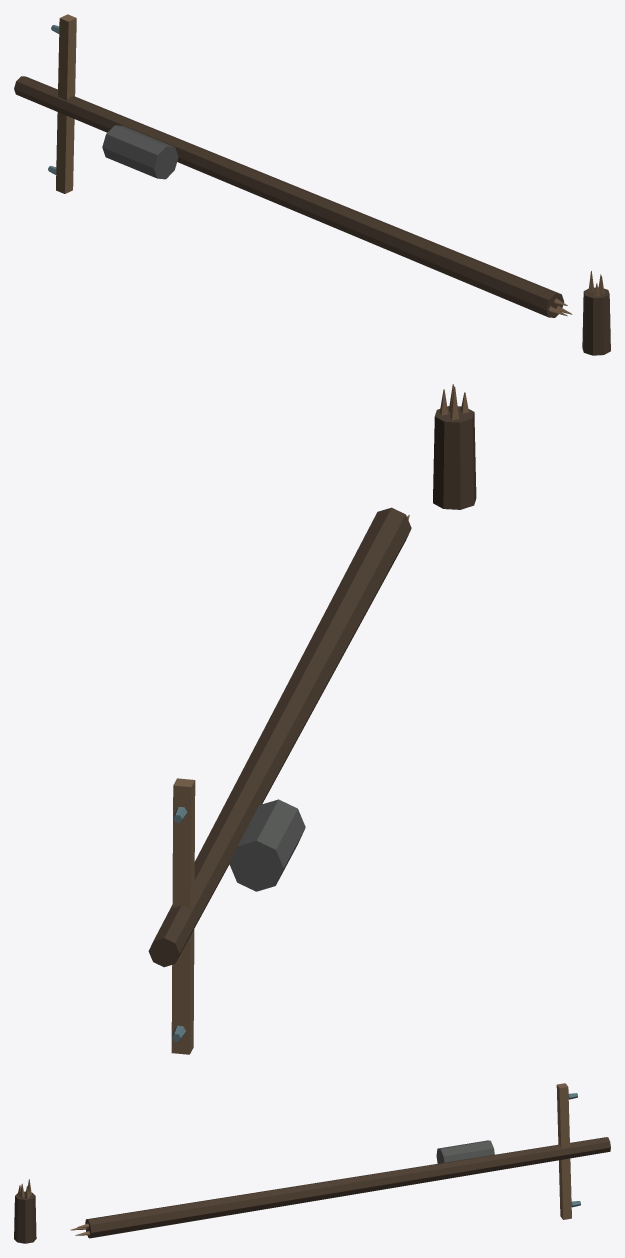
Rendered from power_pole_fallen.glb.
3 renders of one model, top to bottom at view 1: azimuth 30°, elevation 25°; view 2: azimuth 150°, elevation 25°; view 3: azimuth 270°, elevation 25°, orthographic. The views are drawn at different scales.
Parts seen in each view (by area): view 1: power_pole_fallen; view 2: power_pole_fallen; view 3: power_pole_fallen.
Part boxes in pixels (x1,y1,x2,y2): power_pole_fallen: [14, 14, 610, 355]; power_pole_fallen: [148, 384, 476, 1054]; power_pole_fallen: [14, 1083, 610, 1243].
Size of the model in its own units: 2.83 by 2.2 by 9.
Materials: 2 (2 with a texture image).
